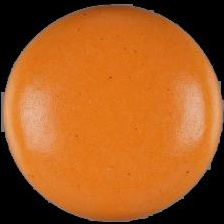0615-0598: (0, 0, 224, 224)
